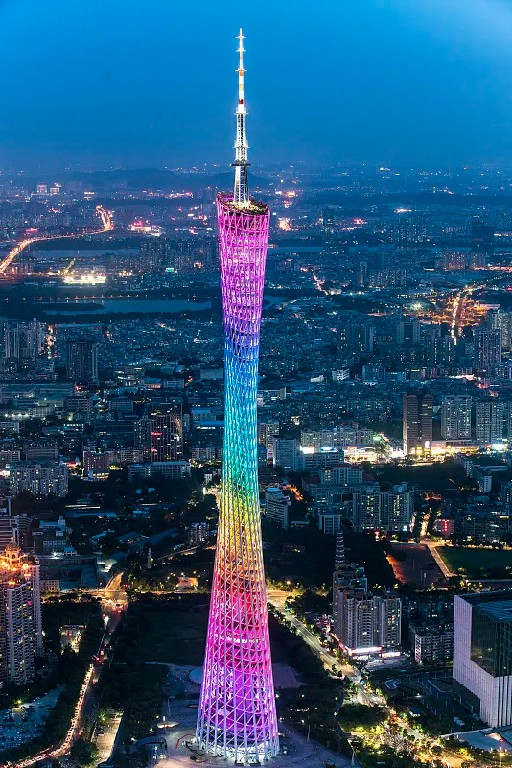Canton: (193, 26, 286, 762)
